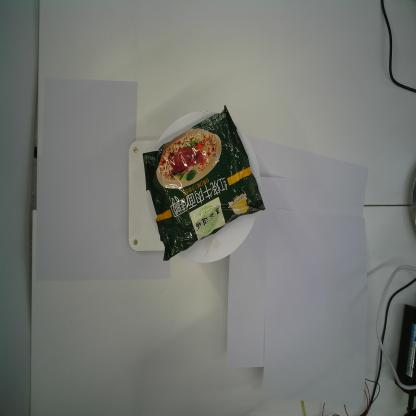Instant Noodles: (141, 103, 268, 265)
